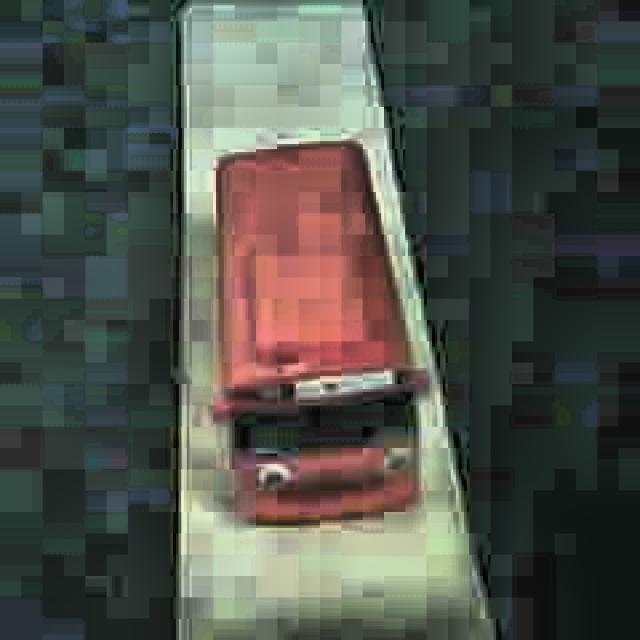bus: (210, 138, 431, 530)
